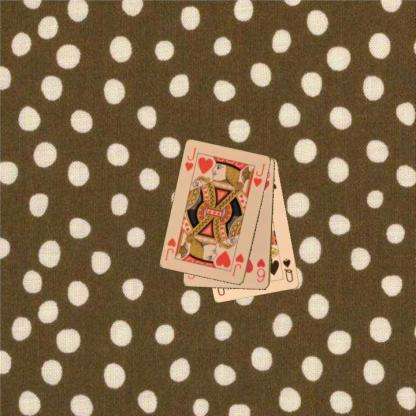6h: (255, 256, 266, 283)
Jh: (182, 146, 198, 172), (230, 252, 245, 278)
Qs: (280, 256, 295, 284)
